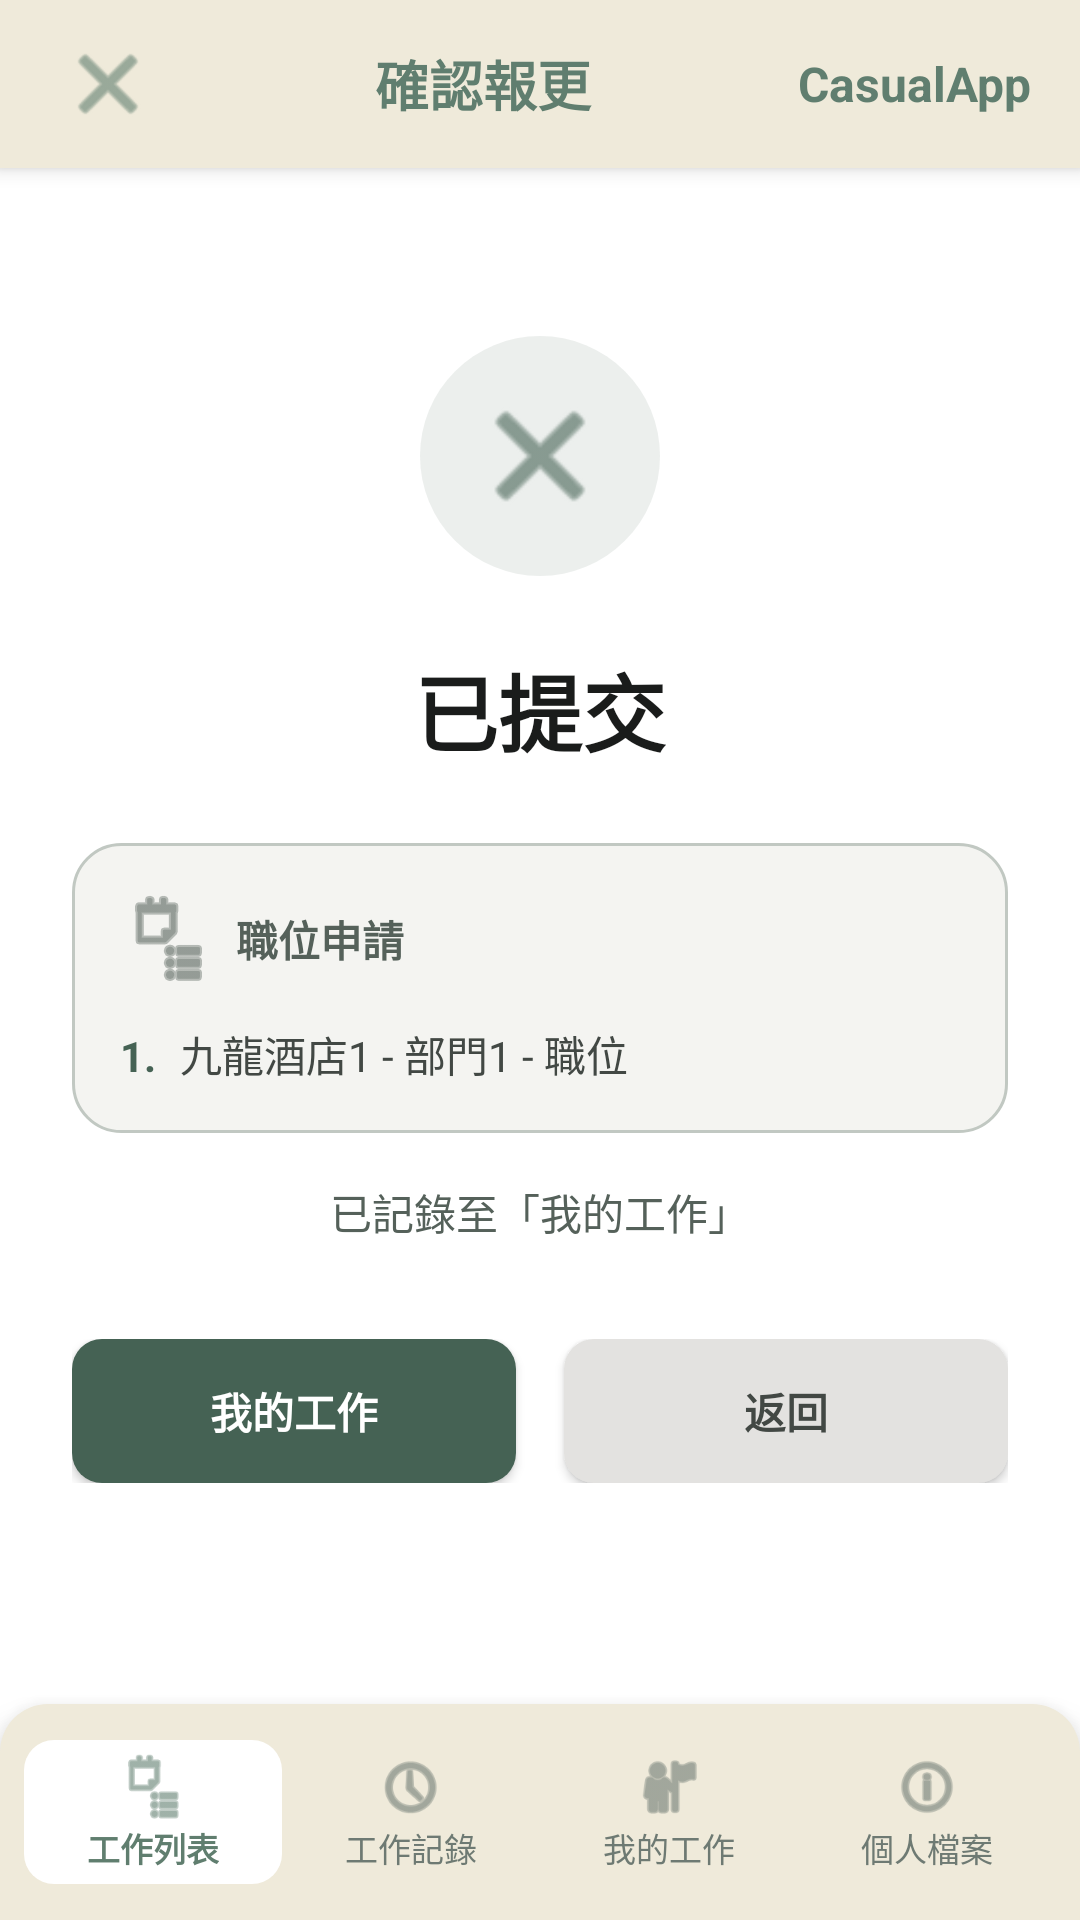

Screen size 1080 × 1920. Icon name, then its box in pixels as {"left": x1, "top": y1, "right": x2, "bottom": y2}:
close clear cancel: {"left": 78, "top": 54, "right": 138, "bottom": 114}, {"left": 495, "top": 411, "right": 585, "bottom": 501}
info details: {"left": 901, "top": 1761, "right": 953, "bottom": 1813}
myplaces: {"left": 643, "top": 1760, "right": 697, "bottom": 1814}
recent history: {"left": 385, "top": 1761, "right": 437, "bottom": 1813}
